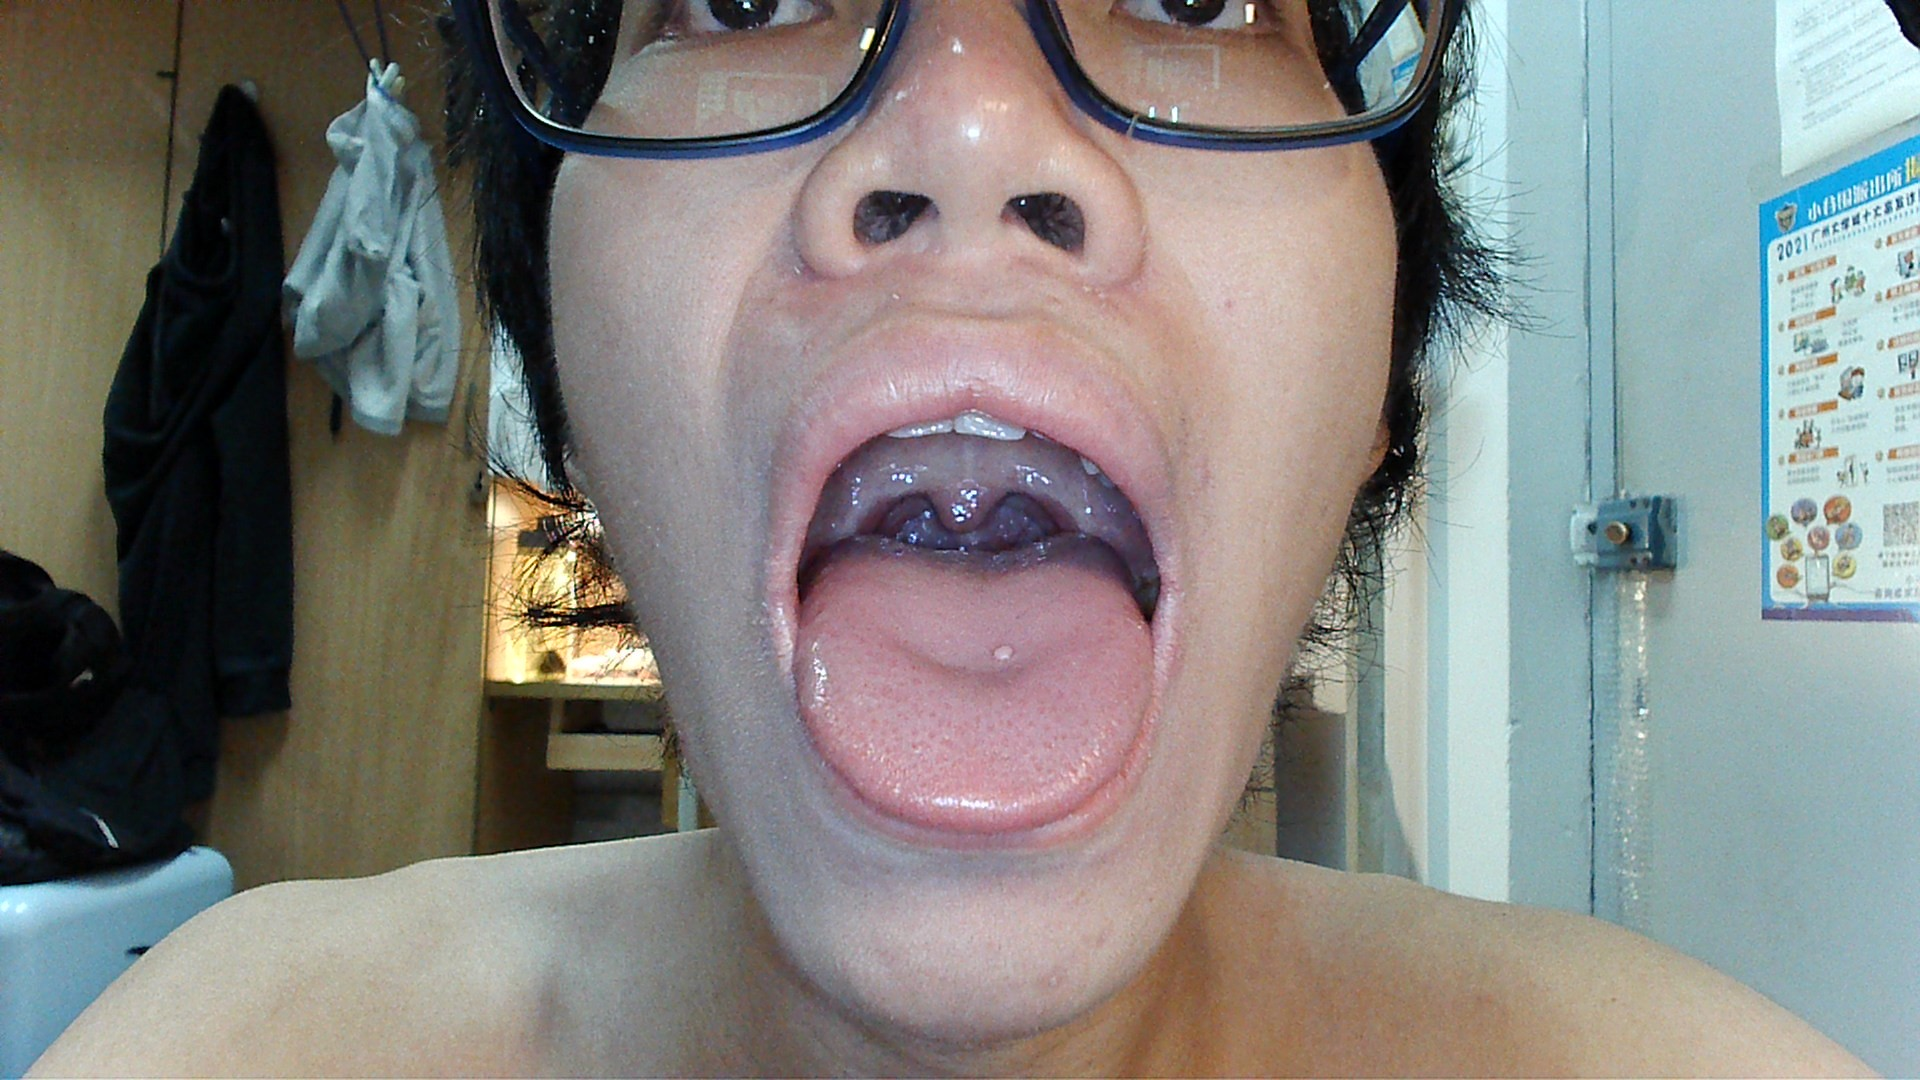throat: (1026, 456, 1073, 531), (851, 472, 906, 527)
